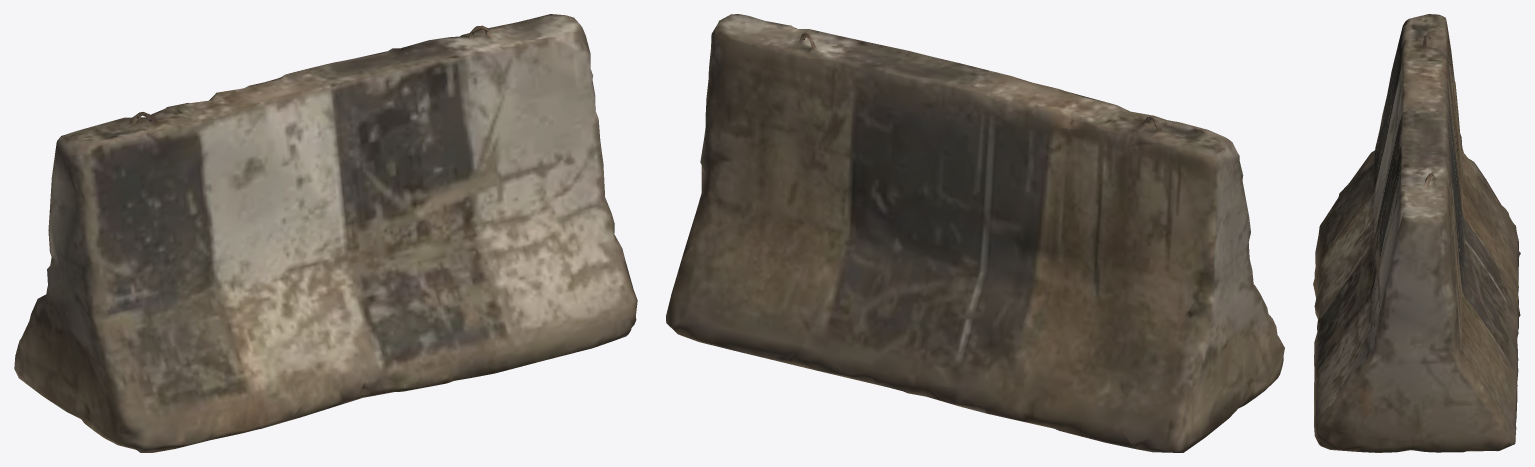
The model's file is concrete_road_barrier.glb.
3 renders of one model, left to right at view 1: azimuth 30°, elevation 25°; view 2: azimuth 150°, elevation 25°; view 3: azimuth 270°, elevation 25°, orthographic. The views are drawn at different scales.
Visible parts, largest first — view 1: concrete_road_barrier; view 2: concrete_road_barrier; view 3: concrete_road_barrier.
Boxes of the visible parts, box(x1,y1,x2,y2) form: concrete_road_barrier: box(14, 14, 637, 452); concrete_road_barrier: box(666, 14, 1284, 452); concrete_road_barrier: box(1313, 14, 1520, 452).
Bounding box in the file's own units: 1.54 × 0.8299 × 0.6387.
1 material, 1 textured.
